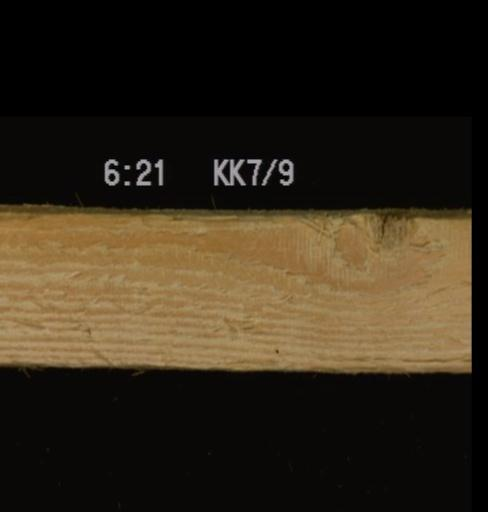edge_knot: (356, 210, 449, 263)
split: (165, 213, 273, 226)
